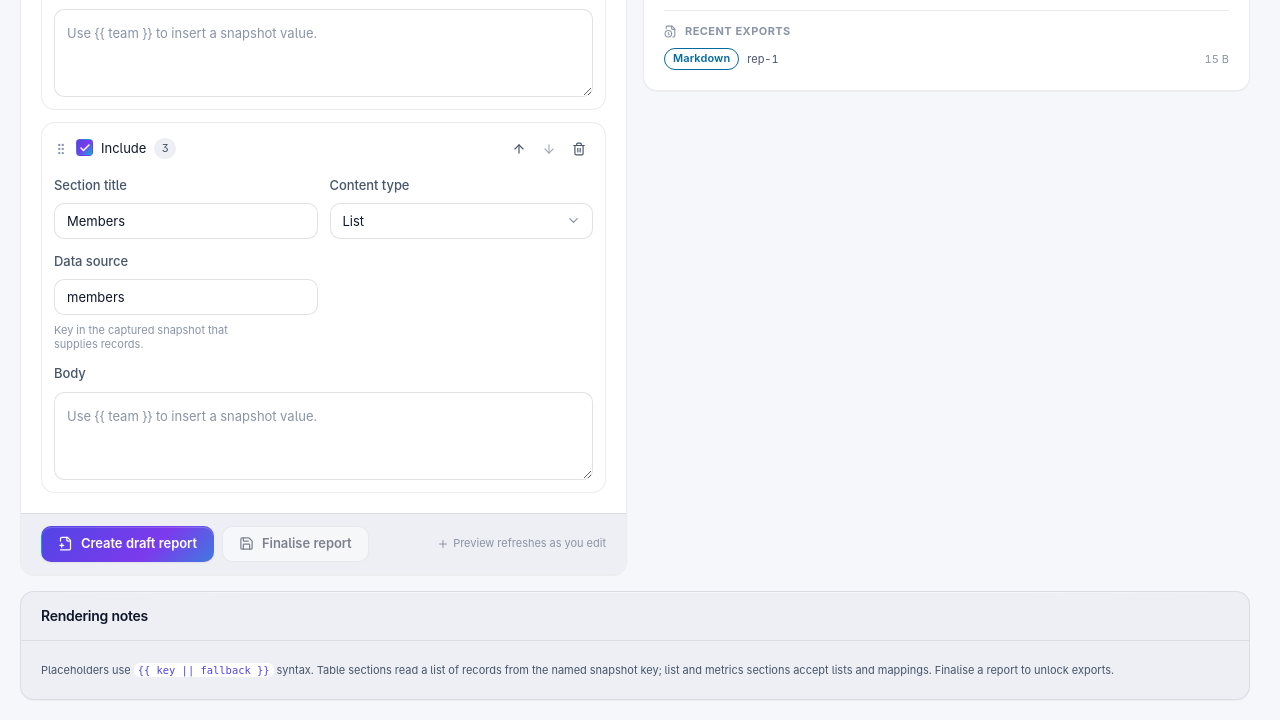
Test: ReportsPage › creates a draft with the captured snapshot
(page scrolled)
What coordinates should you click on to do the following:
click the button "Create draft report"
I would click on:
 (128, 544)
Its box is [41,526,214,562].
(page scrolled)
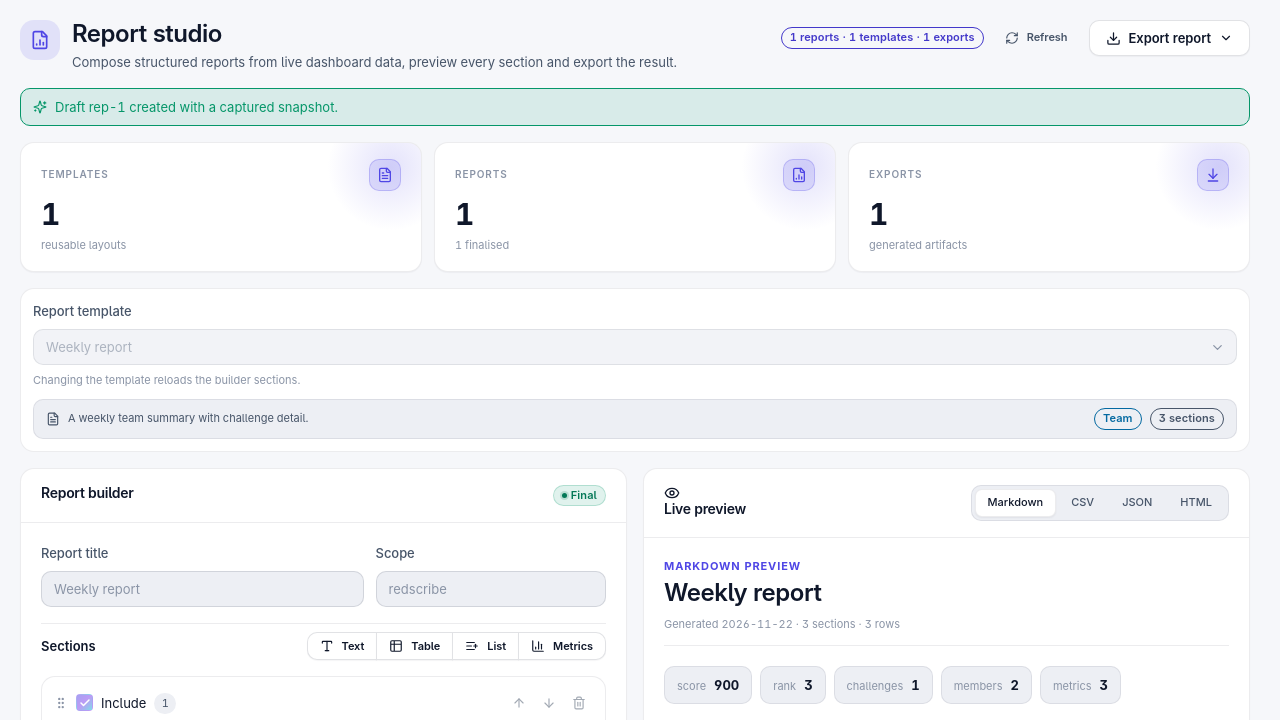
Expected: the message shows "Draft rep-1 created", [55,99,338,115]
